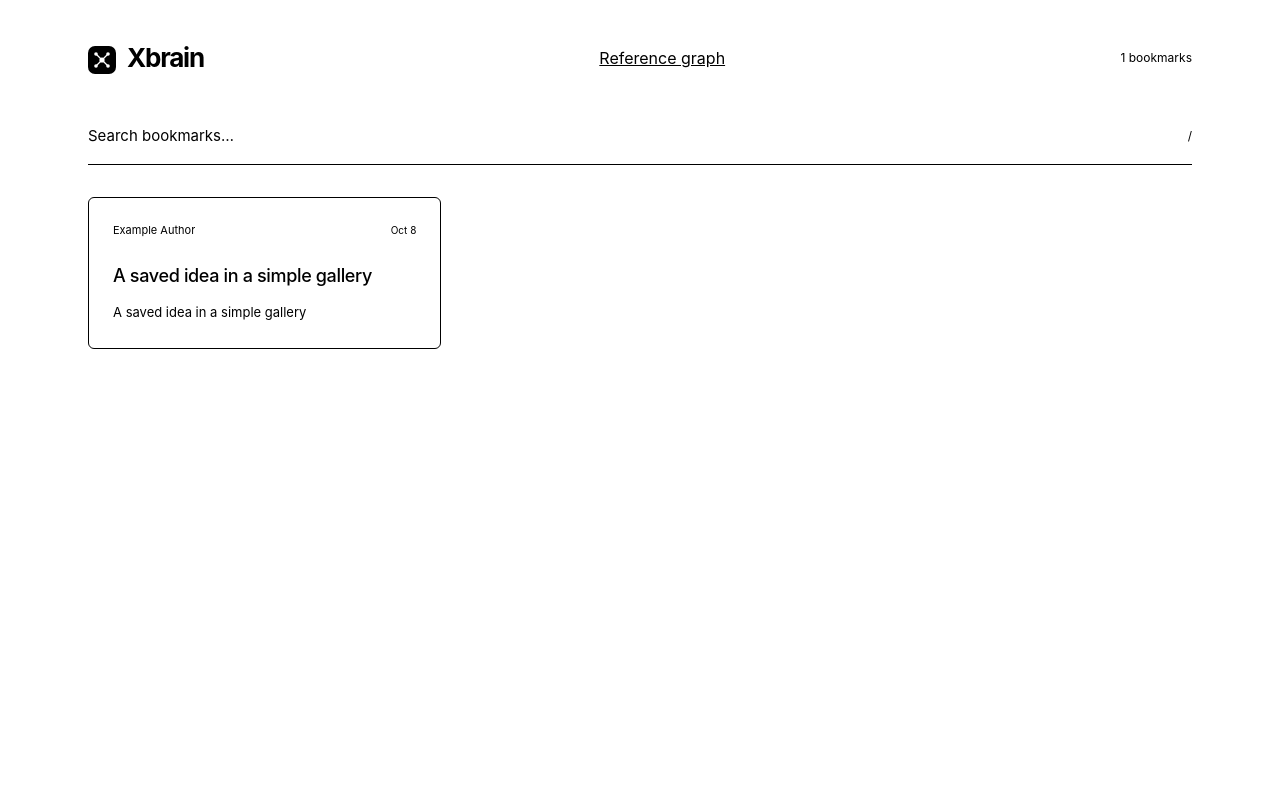
Minimal gallery surface › keeps details read-only without restoring removed workflows
The width and height of the screenshot is (1280, 800).
Click the button with aria-label "Read A saved idea in a simple gallery": (265, 273) left=89, top=198, right=440, bottom=348
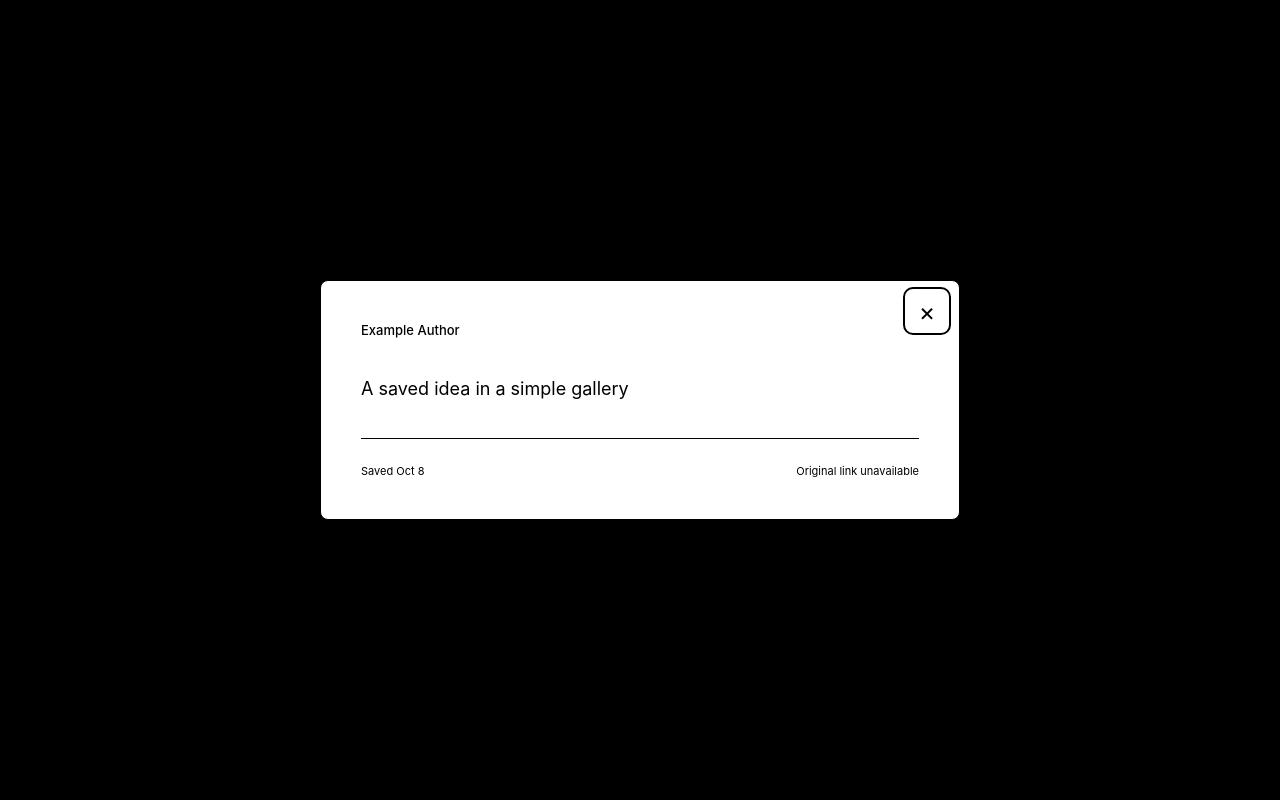
Check: the dialog with id "detail-dialog" is shown, box left=320, top=280, right=960, bottom=520
